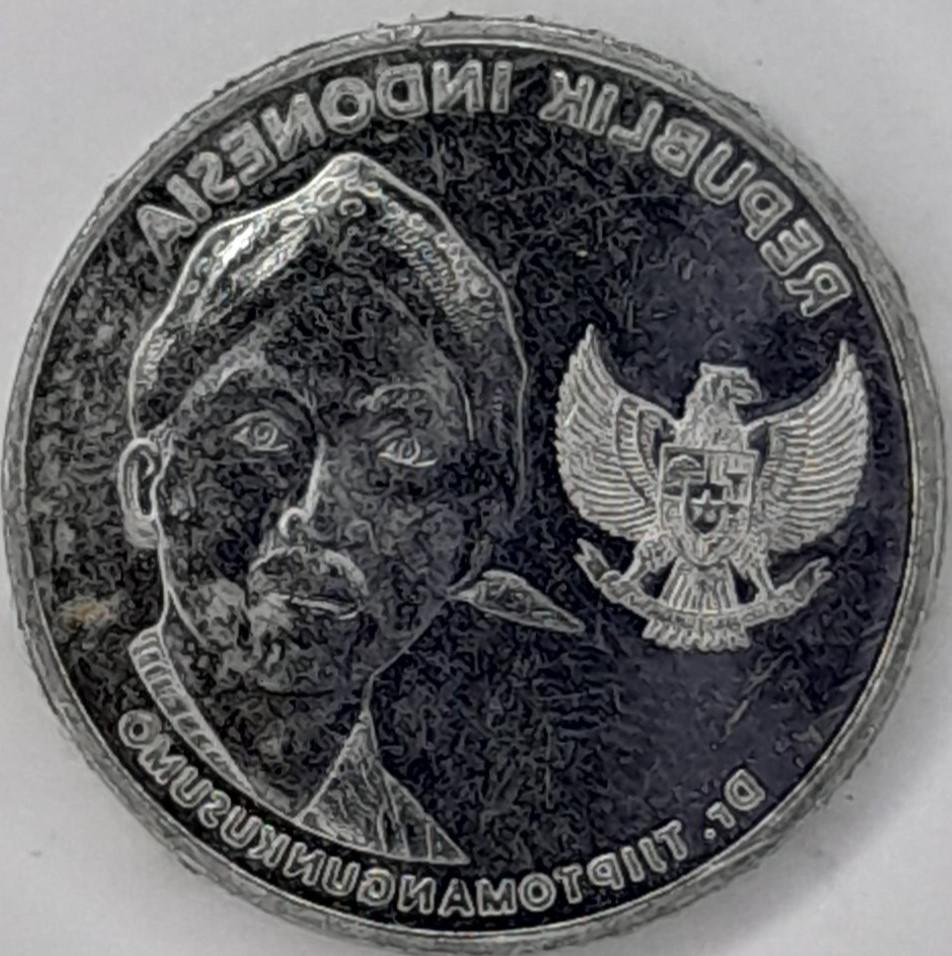coin_200_e2016: (0, 17, 952, 956)
